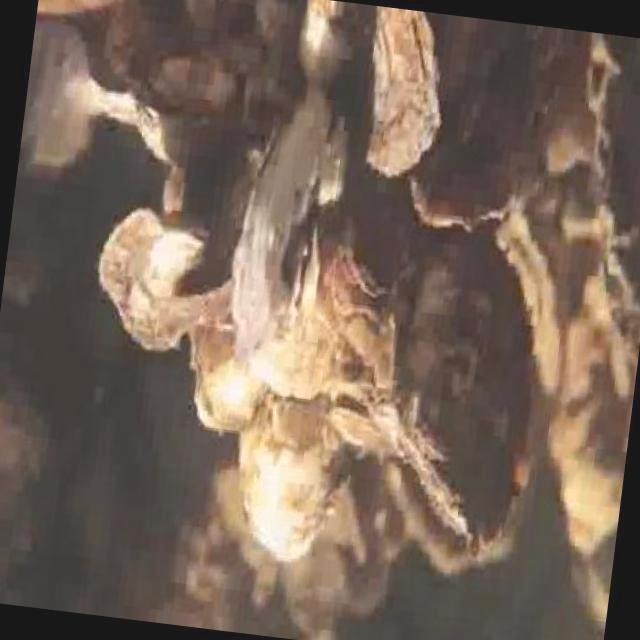Oyster-Closed: (378, 237, 526, 563), (561, 40, 639, 453), (232, 81, 338, 348), (230, 386, 356, 561), (93, 202, 239, 344), (350, 3, 443, 180), (405, 97, 513, 236), (246, 286, 360, 395), (372, 468, 466, 582), (112, 32, 239, 112), (334, 164, 409, 299), (178, 322, 257, 430), (281, 542, 338, 635), (207, 464, 254, 568), (297, 0, 351, 90), (57, 67, 143, 123), (319, 406, 389, 459), (343, 536, 390, 613), (97, 0, 134, 58)
Oyster-Open: (284, 215, 322, 321)
